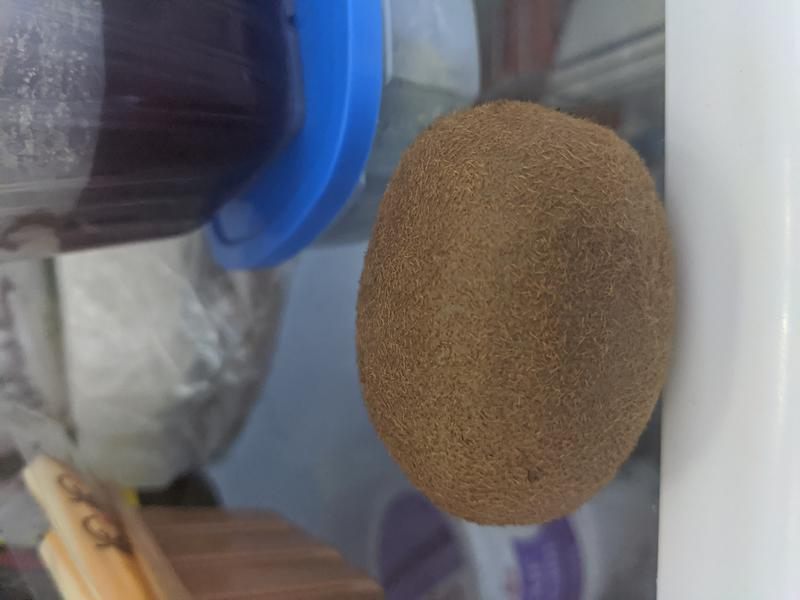kiwi: (356, 101, 674, 527)
